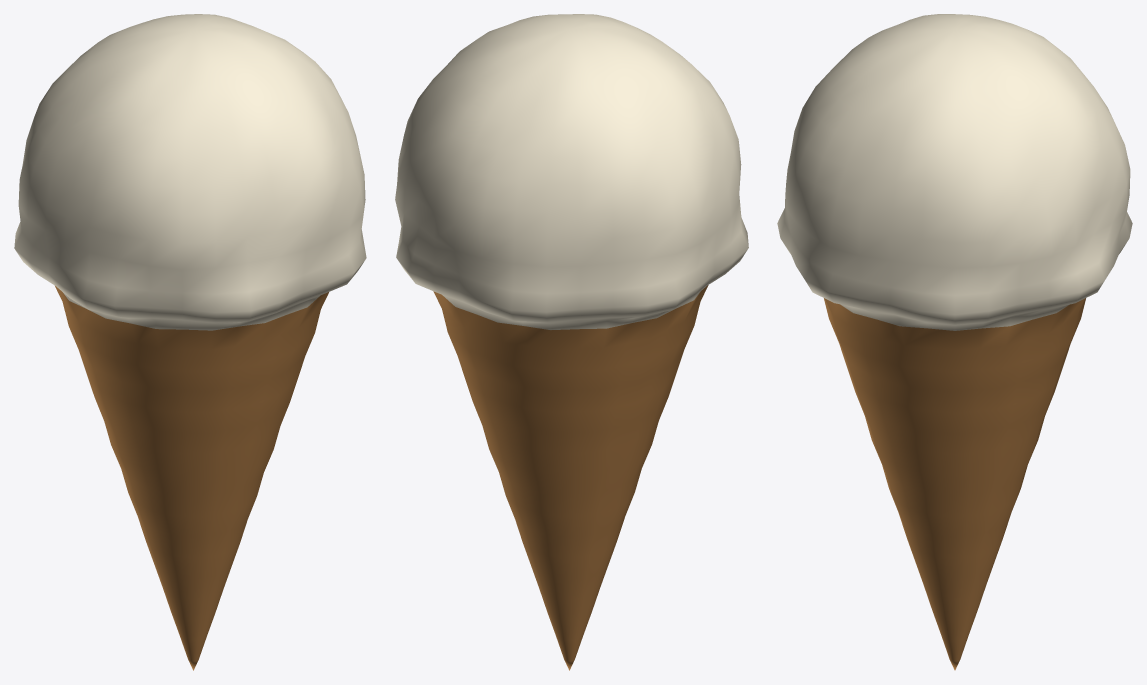
The model's file is NEW_RECOVERY_002_LOD1.glb.
3 renders of one model, left to right at view 1: azimuth 30°, elevation 25°; view 2: azimuth 150°, elevation 25°; view 3: azimuth 270°, elevation 25°, orthographic.
Visible parts, largest first — view 1: NEW_RECOVERY_002_LOD1; view 2: NEW_RECOVERY_002_LOD1; view 3: NEW_RECOVERY_002_LOD1.
Boxes of the visible parts, x1,y1,x2,y2 form: NEW_RECOVERY_002_LOD1: [14, 14, 366, 670]; NEW_RECOVERY_002_LOD1: [395, 14, 748, 670]; NEW_RECOVERY_002_LOD1: [777, 14, 1132, 670].
Bounding box in the file's own units: 0.1595 × 0.32 × 0.1607.
